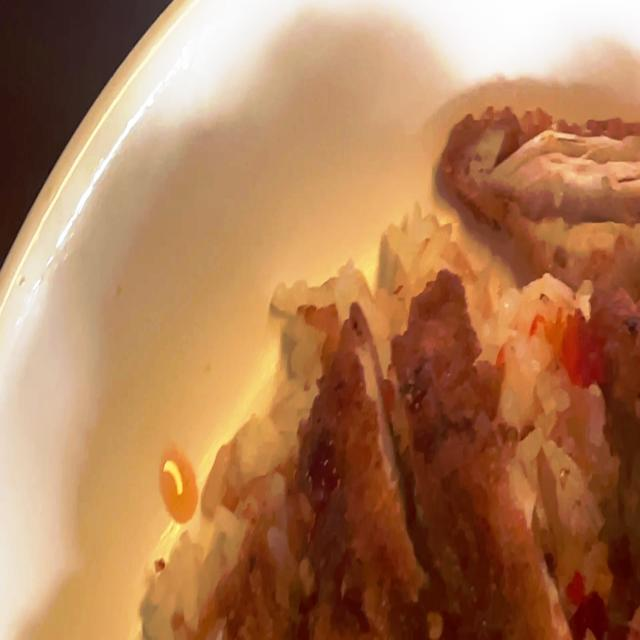chicken_rice: (155, 109, 640, 640)
fried_chicken: (289, 106, 640, 640)
